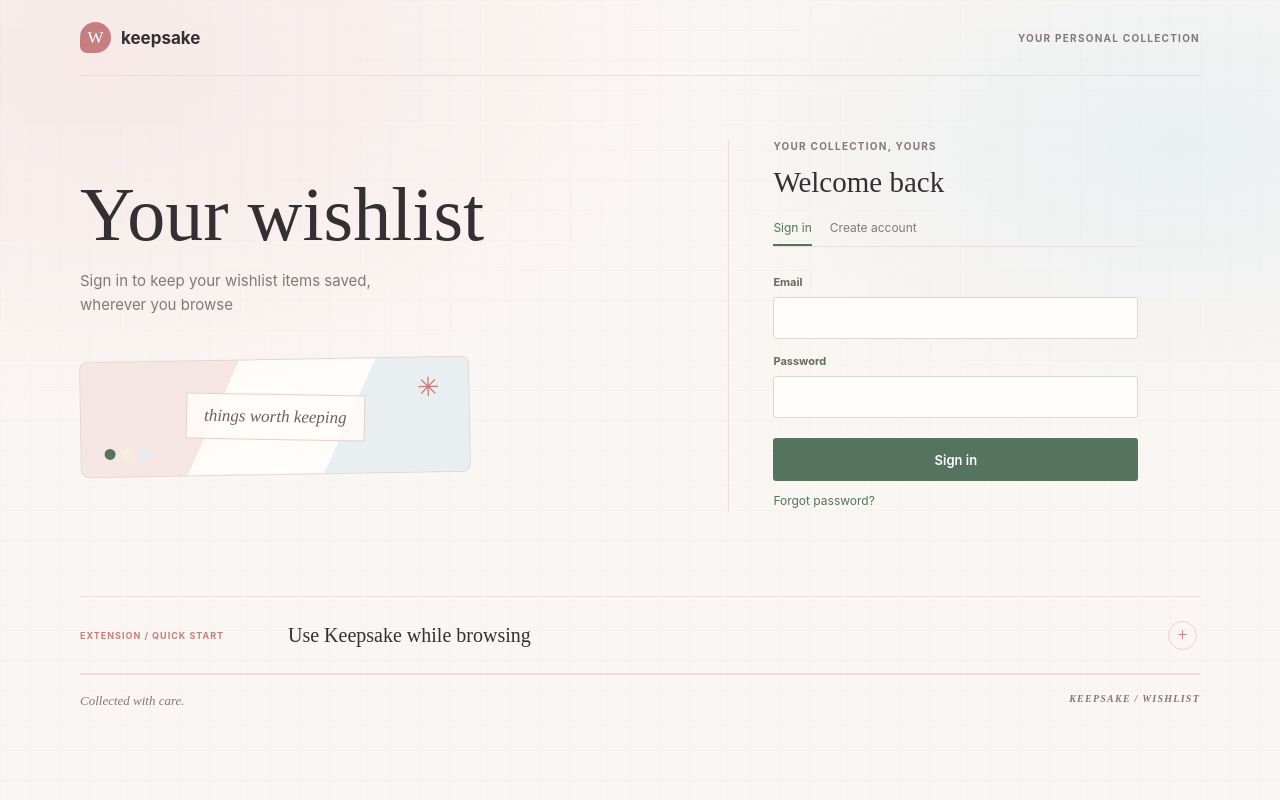
it: sends a password recovery email from the signed-out screen
Expected: the heading "Welcome back" is shown, [773,166,944,198]
Expected: the field labelled "Email" is shown, [773,297,1138,339]
Click the button "Forgot password?" at point(824, 500), box [773,489,875,512]
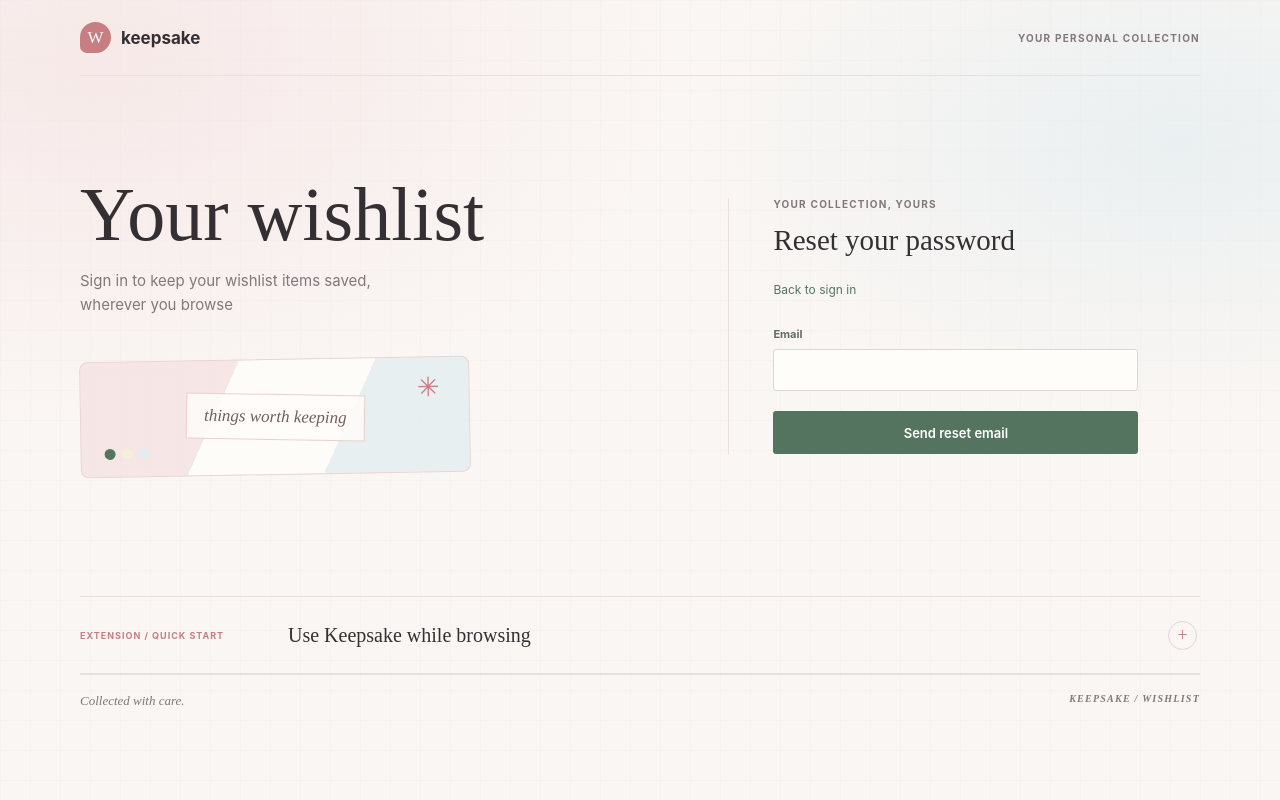
Expected: the heading "Reset your password" is shown, [773,224,1015,256]
Type "eileen@example.com" into the field labelled "Email" at point(956, 370), box [773,349,1138,391]
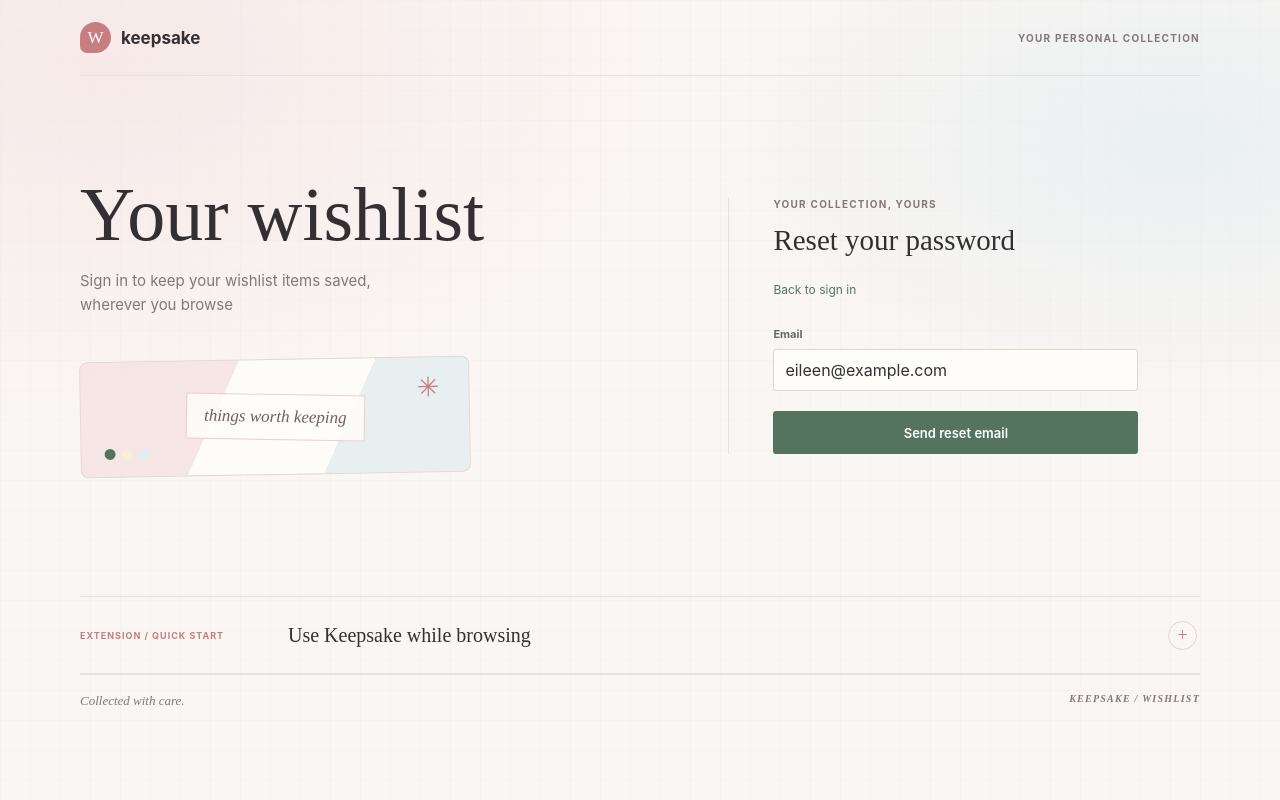
Click the button "Send reset email" at point(956, 432), box [773,411,1138,454]
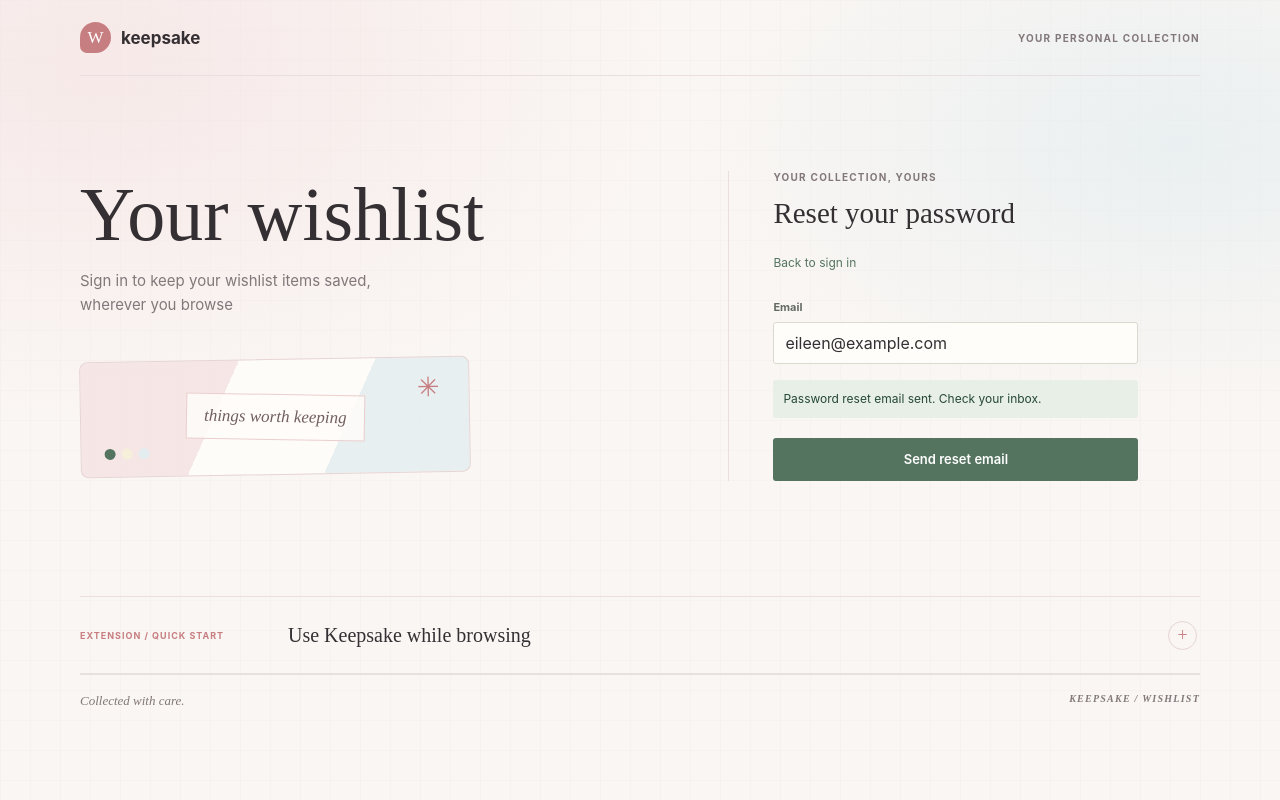
Expected: the text "Password reset email sent. Check your inbox." is shown, [773,380,1138,418]
